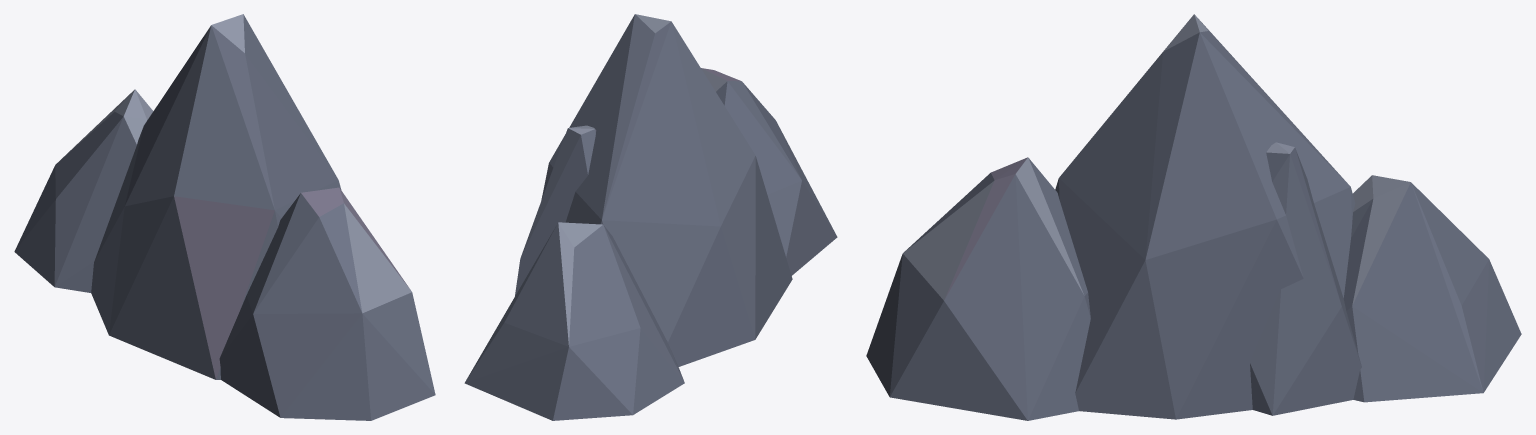
The model's file is mount_1.glb.
3 views of the same model, side by side, from view 1: azimuth 30°, elevation 25°; view 2: azimuth 150°, elevation 25°; view 3: azimuth 270°, elevation 25° (orthographic). The views are drawn at different scales.
Visible parts, largest first — view 1: Body; view 2: Body; view 3: Body.
Part boxes in pixels (bbox=[...]): Body: bbox=[14, 14, 435, 420]; Body: bbox=[464, 14, 837, 420]; Body: bbox=[866, 14, 1521, 420].
Size of the model in its own units: 17.6 by 21.89 by 38.88.
